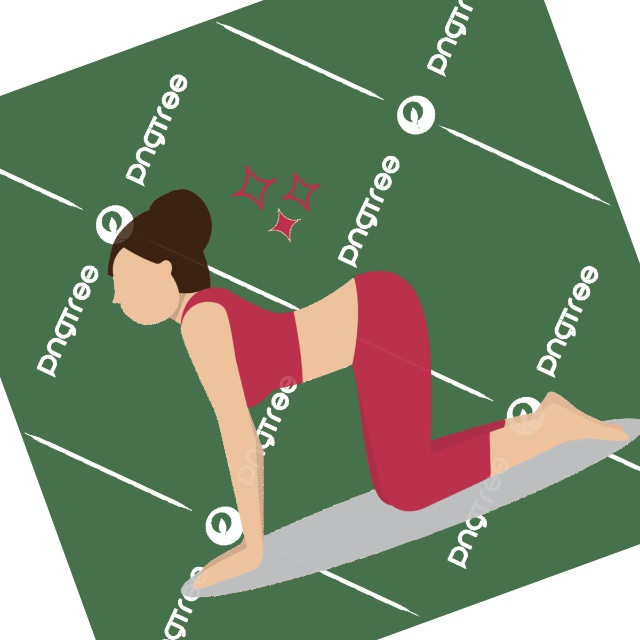Cow_Pose: (107, 213, 631, 589)
